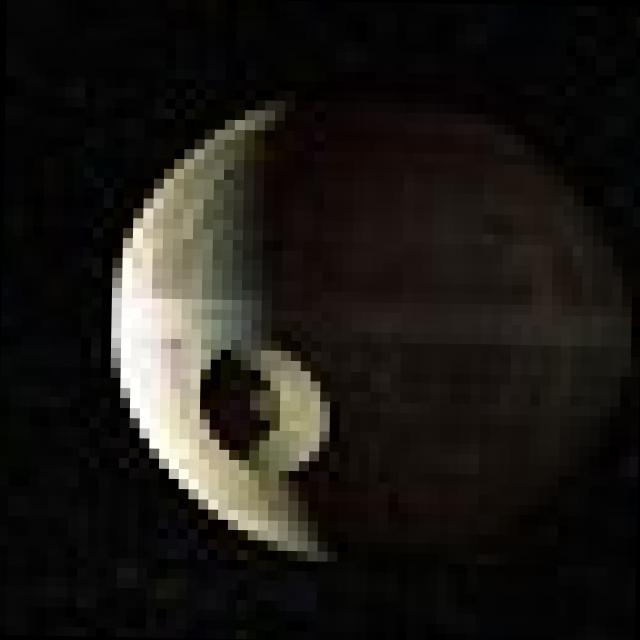Death Star: (116, 107, 634, 576)
